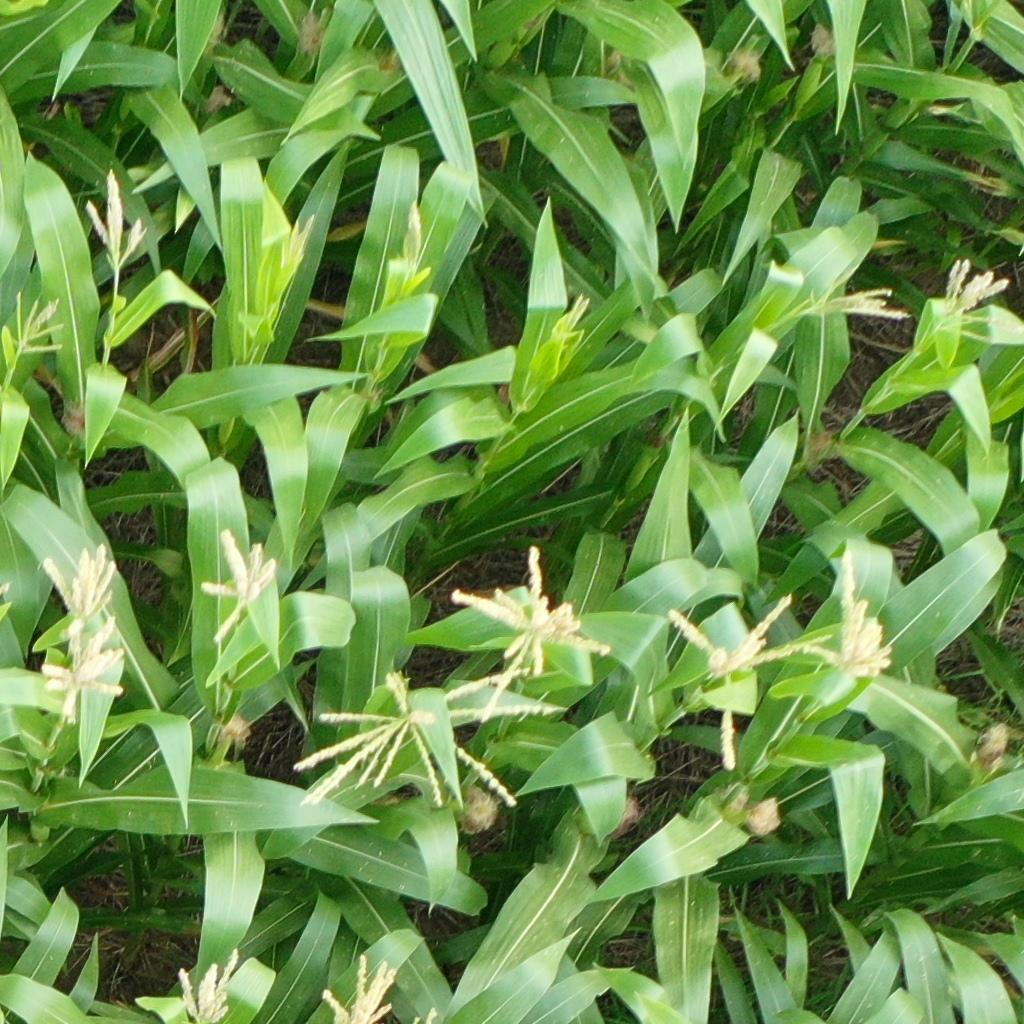Tassel: (291, 666, 571, 808), (662, 595, 830, 779), (447, 548, 612, 724), (802, 552, 898, 678), (41, 617, 127, 728), (197, 530, 277, 646), (40, 542, 117, 634), (936, 257, 1011, 345), (82, 168, 146, 271), (320, 952, 394, 1024), (175, 946, 237, 1024), (5, 291, 67, 355), (813, 286, 912, 322), (395, 201, 426, 273), (281, 215, 316, 273), (557, 294, 593, 341), (962, 1, 1006, 36)
